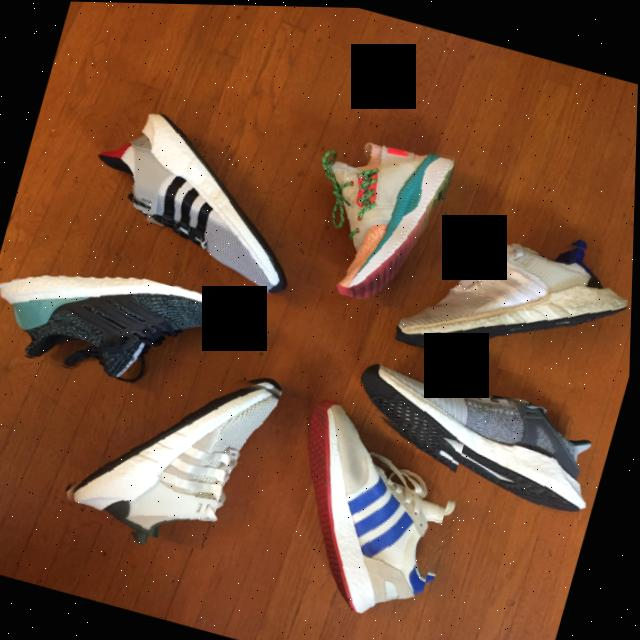shoe: (76, 99, 332, 302), (59, 334, 286, 558), (394, 196, 636, 395), (268, 394, 469, 625), (0, 241, 267, 413), (341, 358, 613, 521), (294, 116, 462, 313)
